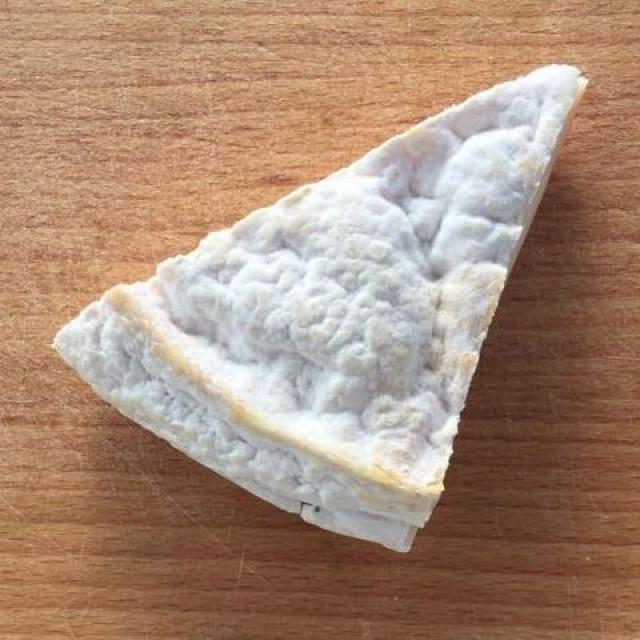cheese: (65, 63, 566, 533)
